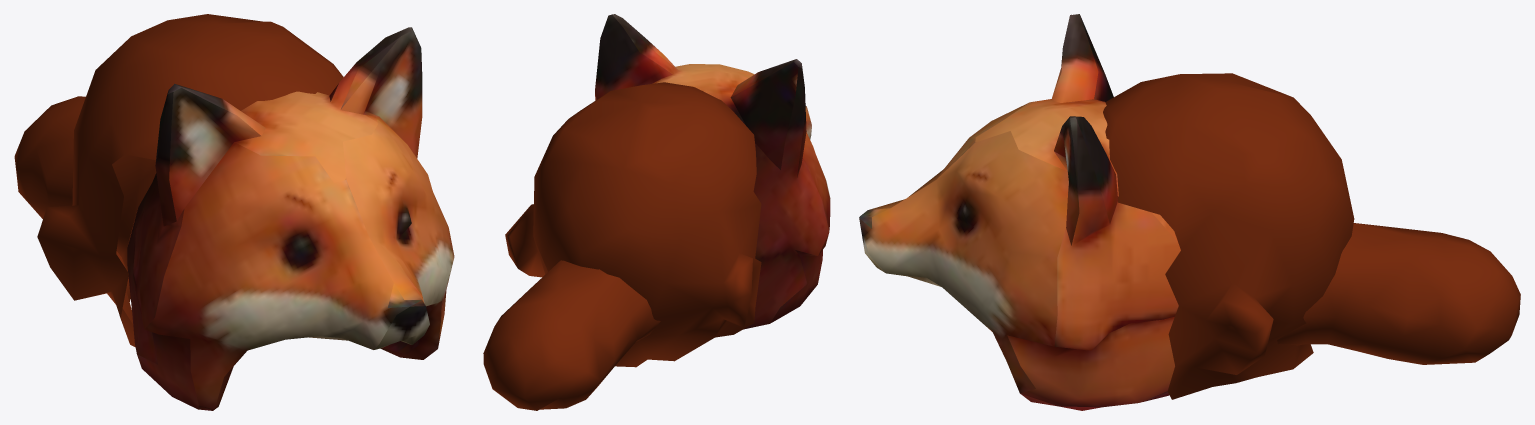
The model's file is red-fox.glb.
3 views of the same model, side by side, from view 1: azimuth 30°, elevation 25°; view 2: azimuth 150°, elevation 25°; view 3: azimuth 270°, elevation 25° (orthographic). The views are drawn at different scales.
Parts seen in each view (by area): view 1: geometry_0, HoodAnatomicalLining; view 2: HoodAnatomicalLining, geometry_0; view 3: geometry_0, HoodAnatomicalLining.
Part boxes in pixels (x1,y1,x2,y2): geometry_0: (14,27,454,410); HoodAnatomicalLining: (37,14,343,347); HoodAnatomicalLining: (505,82,761,367); geometry_0: (483,14,830,410); geometry_0: (859,14,1520,410); HoodAnatomicalLining: (1103,73,1354,399).
Bounding box in the file's own units: 0.4602 × 0.456 × 0.916.
Materials: 2 (1 with a texture image).
